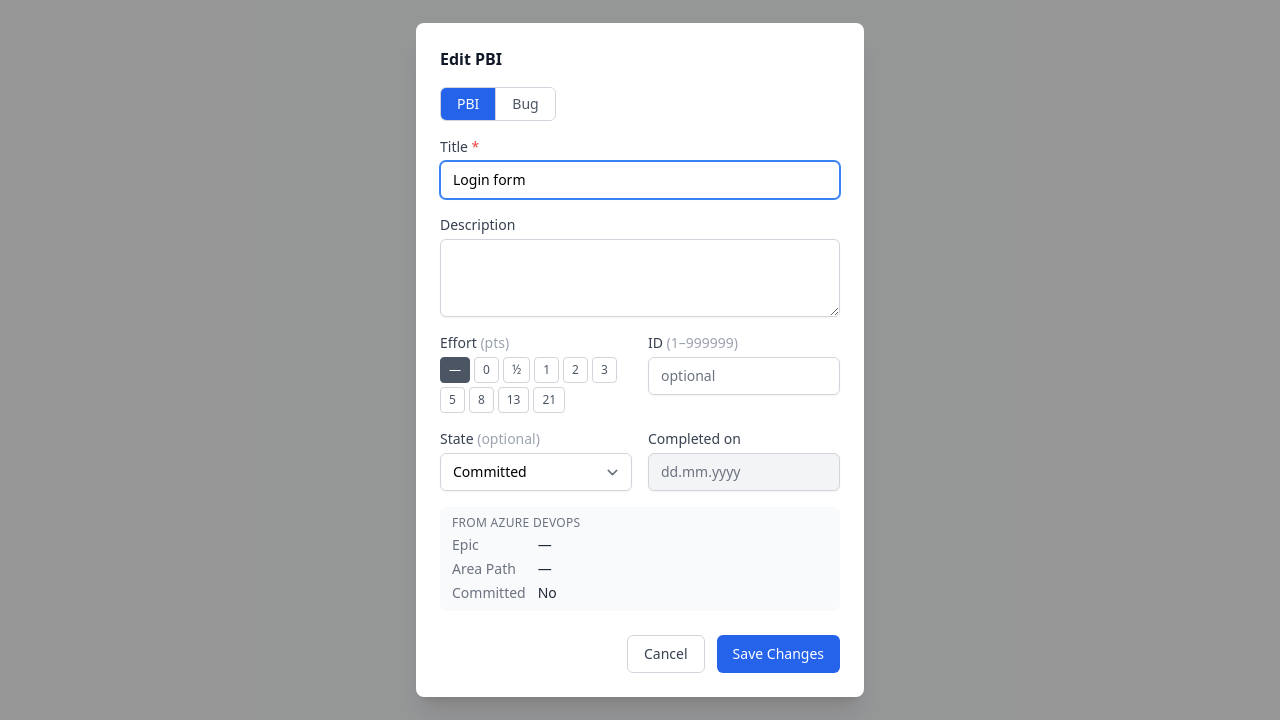
Test: PBIFormModal State field › clears the State when switching between PBI and Bug
The width and height of the screenshot is (1280, 720).
Check: the dropdown with test id "state-select" shows "Committed", box x1=440 y1=453 x2=632 y2=491
Click the button "Bug" at (525, 104), box x1=495 y1=88 x2=555 y2=120
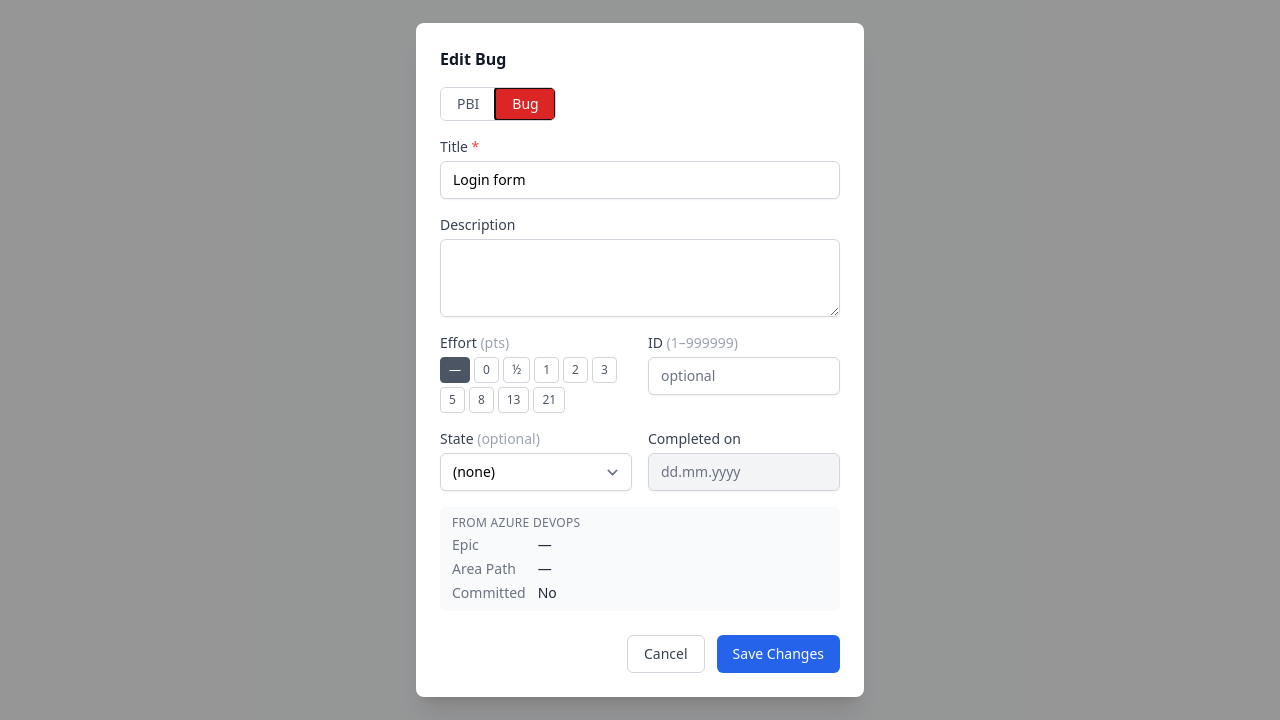
Check: the dropdown with test id "state-select" shows "(none)", box x1=440 y1=453 x2=632 y2=491
